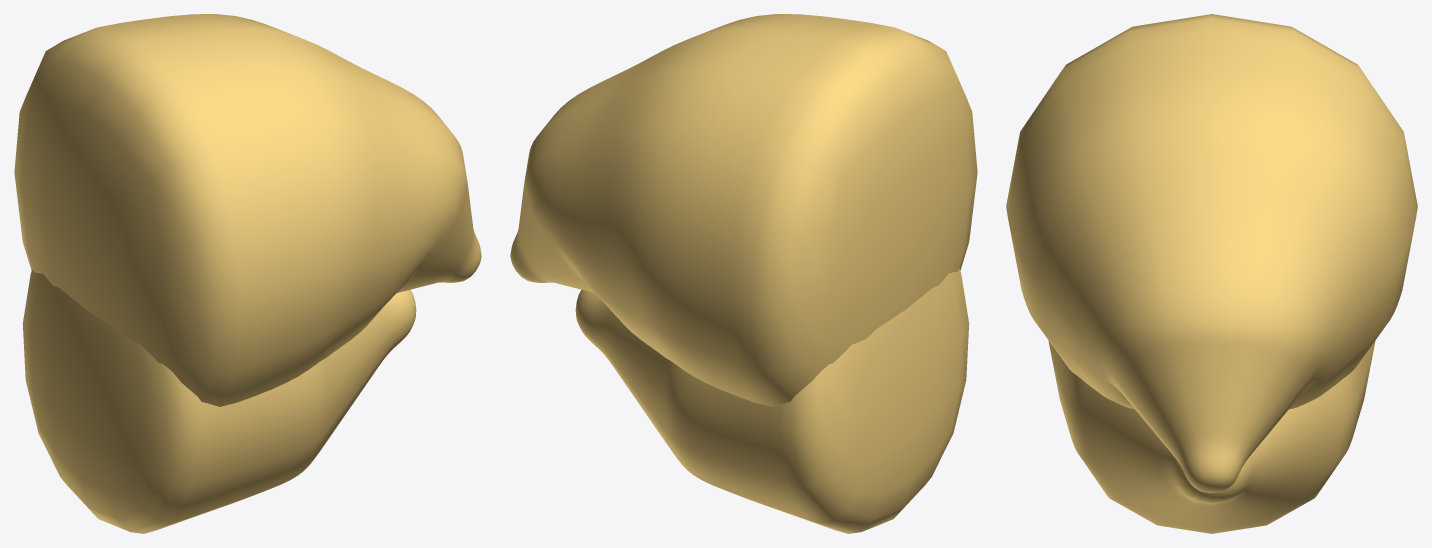
The model's file is creature.beak.glb.
The picture shows the model from 3 angles, left to right: view 1: azimuth 30°, elevation 25°; view 2: azimuth 150°, elevation 25°; view 3: azimuth 270°, elevation 25°; orthographic projection.
Visible parts, largest first — view 1: Beak; view 2: Beak; view 3: Beak.
Boxes of the visible parts, x1,y1,x2,y2 form: Beak: (14,14,481,533); Beak: (510,14,977,533); Beak: (1006,14,1417,533).
Bounding box in the file's own units: 0.936 × 1.05 × 0.8282.
